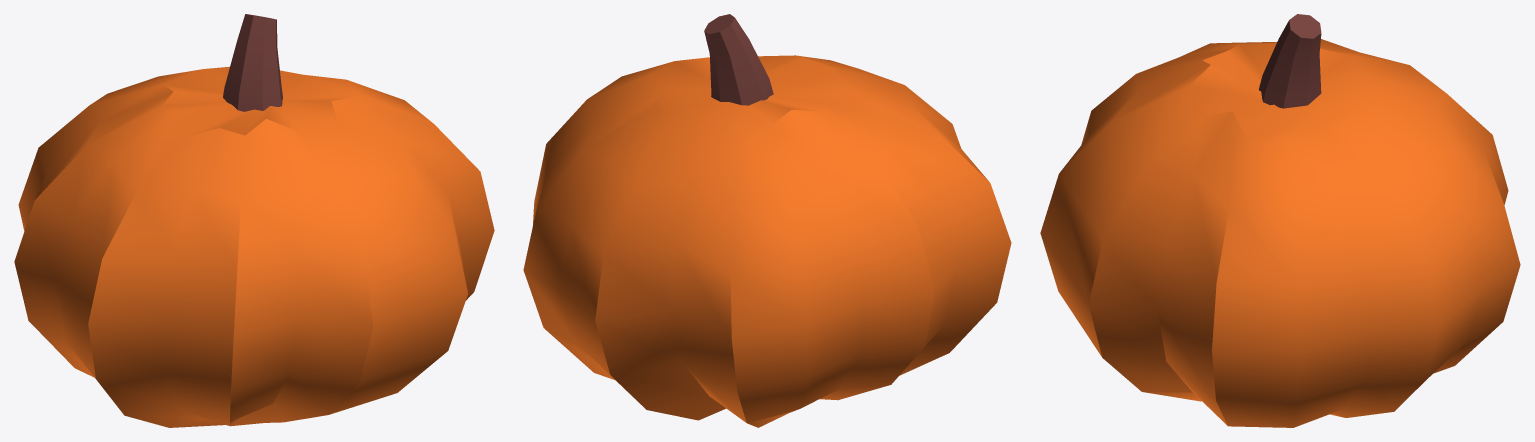
The model's file is Abobora2.fbx.
3 renders of one model, left to right at view 1: azimuth 30°, elevation 25°; view 2: azimuth 150°, elevation 25°; view 3: azimuth 270°, elevation 25°, orthographic. The views are drawn at different scales.
Visible parts, largest first — view 1: abobora; view 2: abobora; view 3: abobora.
Boxes of the visible parts, box(x1,y1,x2,y2) form: abobora: box(14, 14, 494, 427); abobora: box(523, 14, 1011, 427); abobora: box(1040, 14, 1520, 427).
Size of the model in its own units: 102 by 99.04 by 88.41.
